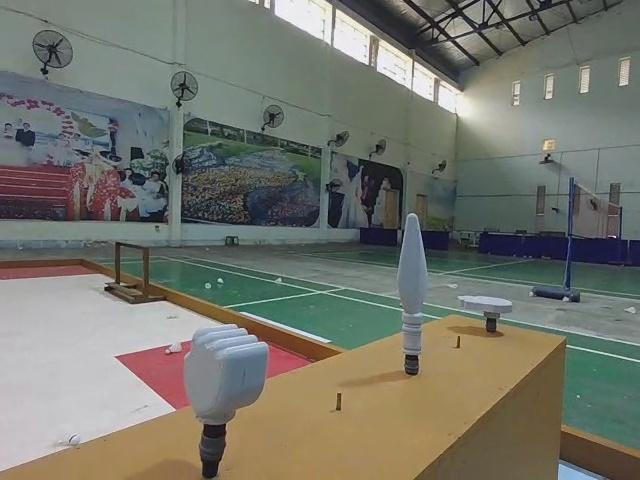Fist: (183, 325, 269, 480)
Hand: (458, 294, 514, 336)
Sph: (394, 209, 433, 380)
